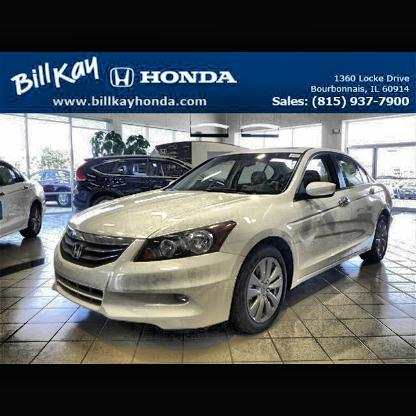Honda Accord Sedan 2012: (55, 148, 394, 337)
